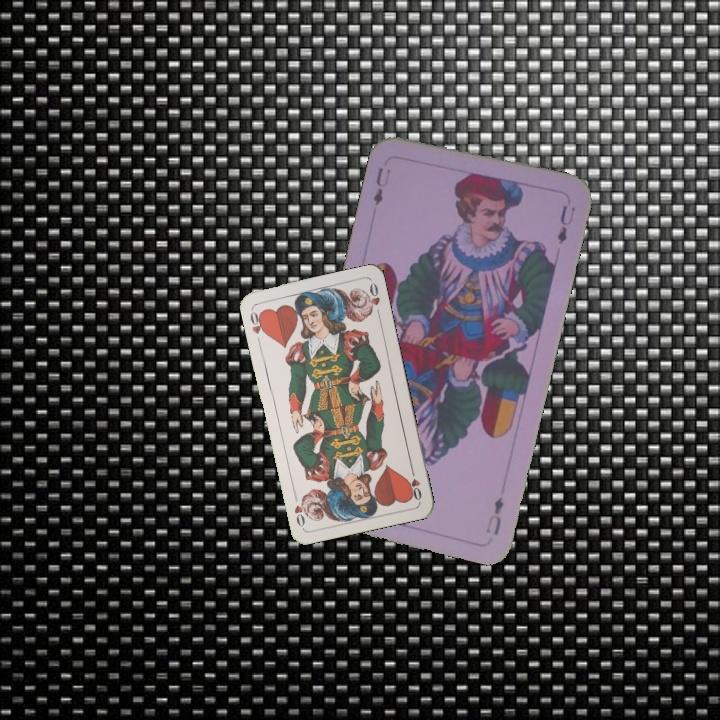EU: (482, 493, 507, 538), (369, 164, 393, 208)
HO: (405, 463, 424, 503), (246, 305, 269, 337)
